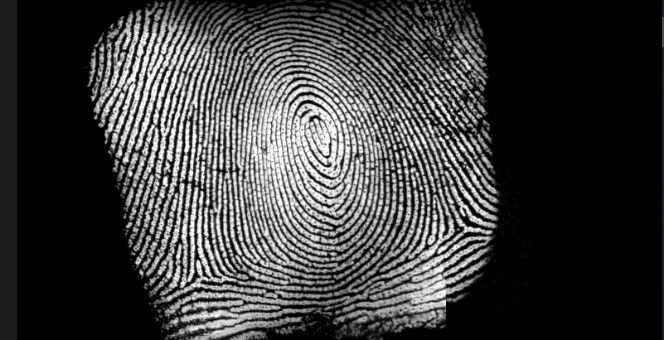nucelo: (303, 115, 335, 153)
verticilo: (446, 203, 482, 245), (181, 251, 220, 288)
